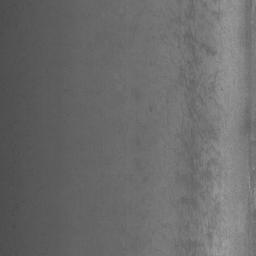Silk spot: (175, 120, 220, 233), (174, 26, 219, 123), (205, 197, 220, 248), (199, 158, 221, 183), (175, 238, 205, 256), (185, 0, 208, 21), (200, 183, 213, 200), (212, 8, 223, 21), (170, 16, 182, 24), (135, 88, 140, 100)
